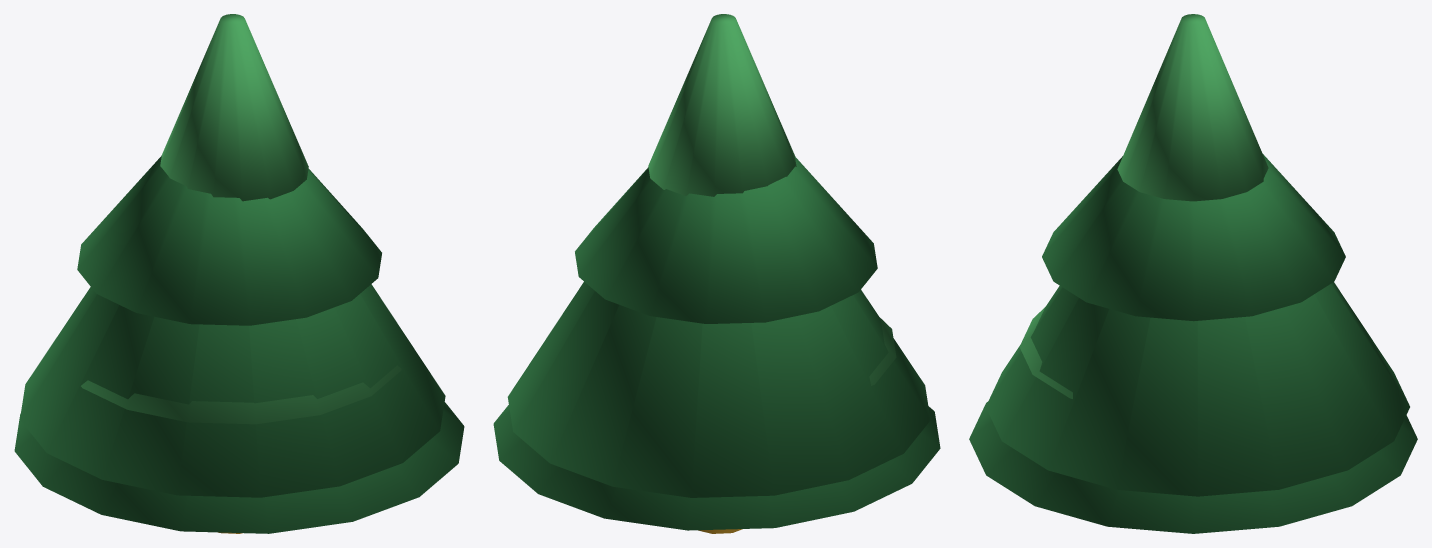
Rendered from pine_1.glb.
3 views of the same model, side by side, from view 1: azimuth 30°, elevation 25°; view 2: azimuth 150°, elevation 25°; view 3: azimuth 270°, elevation 25° (orthographic).
Parts seen in each view (by area): view 1: crown; view 2: crown; view 3: crown.
Part boxes in pixels (x1,y1,x2,y2): crown: (14,14,464,533); crown: (493,14,940,530); crown: (969,14,1417,533).
Bounding box in the file's own units: 1.8 × 2.21 × 1.8.
